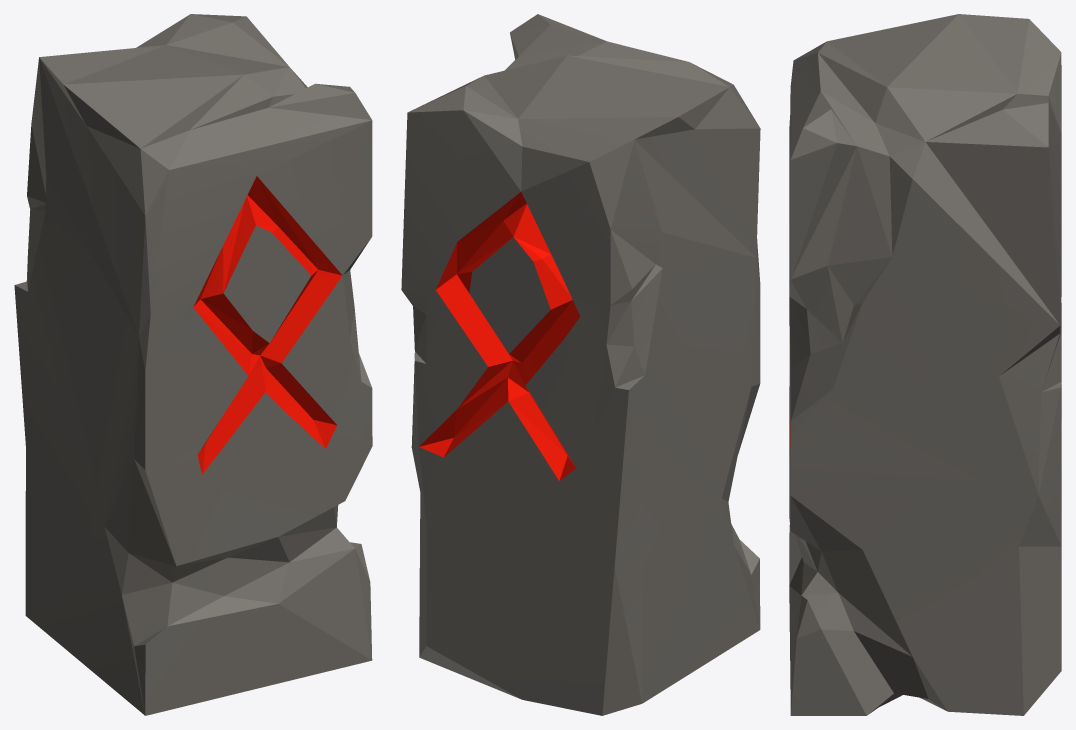
Rendered from SM_Env_Rune_Pillar_03.obj.
The picture shows the model from 3 angles, left to right: view 1: azimuth 30°, elevation 25°; view 2: azimuth 150°, elevation 25°; view 3: azimuth 270°, elevation 25°; orthographic projection. The views are drawn at different scales.
Visible parts, largest first — view 1: SM_Env_Rune_Pillar_03; view 2: SM_Env_Rune_Pillar_03; view 3: SM_Env_Rune_Pillar_03.
Boxes of the visible parts, x1,y1,x2,y2 form: SM_Env_Rune_Pillar_03: (14,14,372,715); SM_Env_Rune_Pillar_03: (401,14,760,715); SM_Env_Rune_Pillar_03: (789,14,1061,715).
Size of the model in its own units: 0.2337 by 0.5566 by 0.2337.
